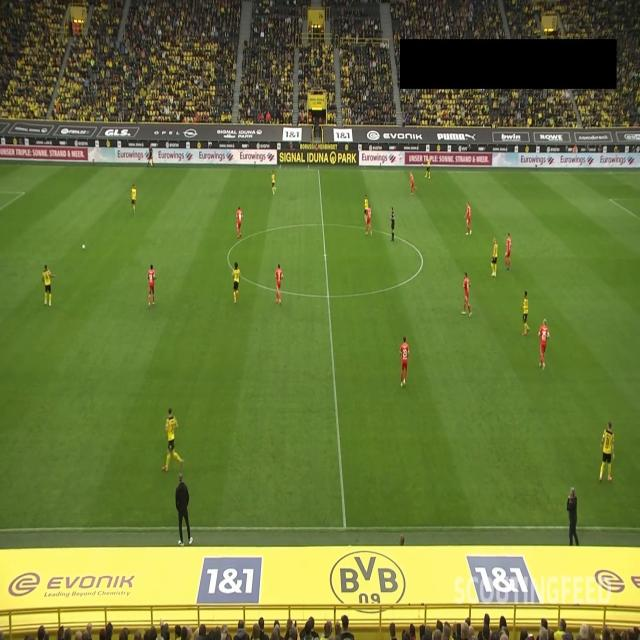ball: (81, 242, 86, 251)
